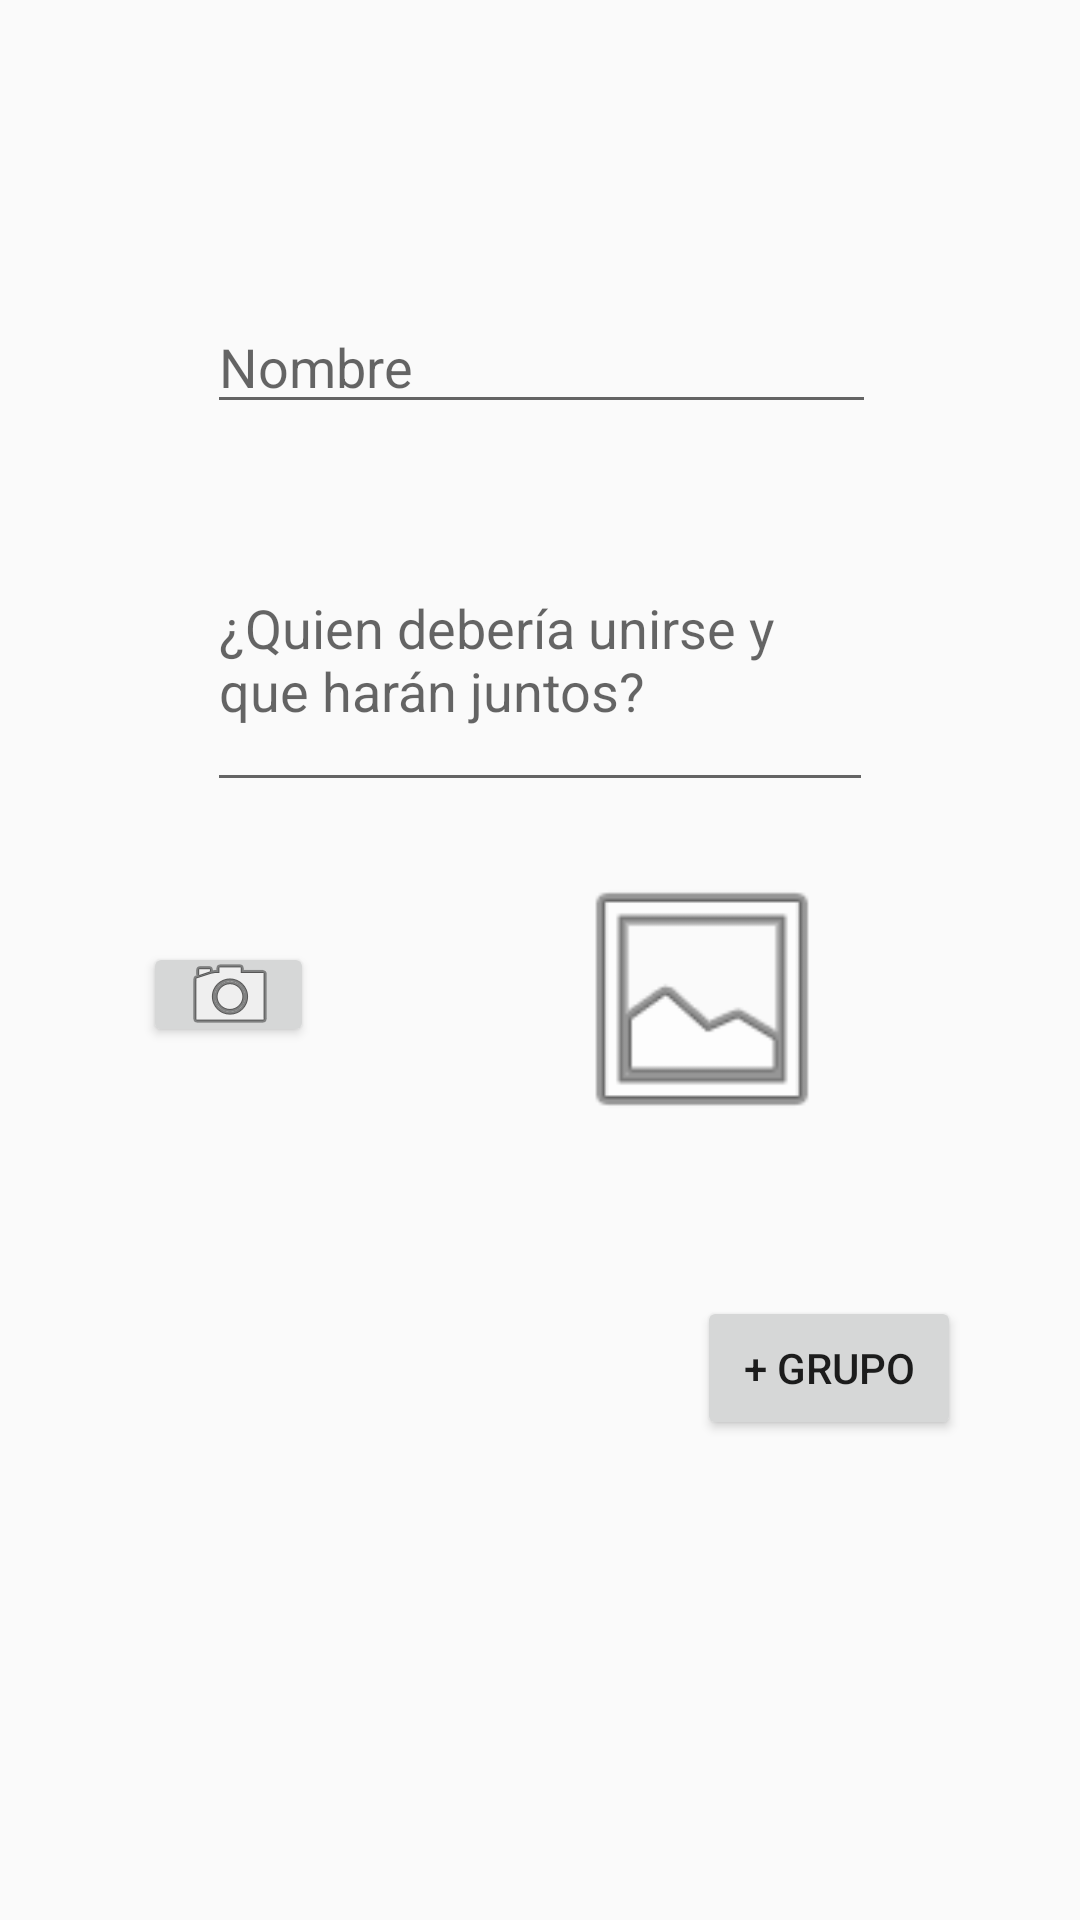

Named icons in this screenshot (1080w x 1920h) and their centers, point (x, y):
gallery: point (702, 999)
